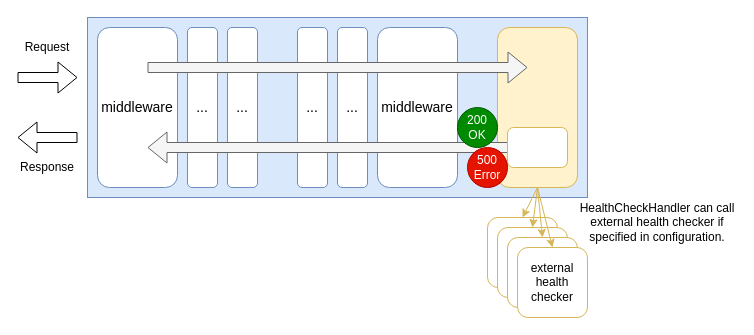
The diagram is 754 pixels wide and 335 high, and some of its shapes have lost their labels. The shapes that lost their labels are listed below. From the top down, each one's box as (x1, y1, x2, y2) in pixels, then its label:
(496, 26, 578, 188): HealthCheck Handler
(506, 126, 568, 168): Health check
